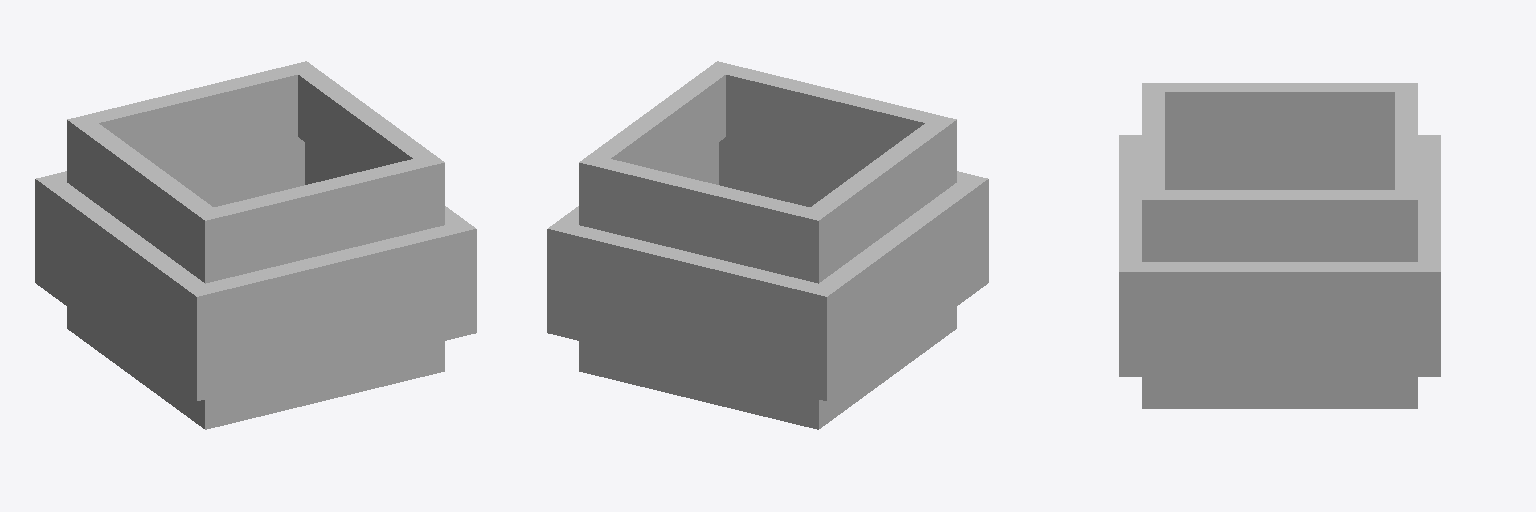
File: egg_hatched_4.obj
3 views of the same model, side by side, from view 1: azimuth 30°, elevation 25°; view 2: azimuth 150°, elevation 25°; view 3: azimuth 270°, elevation 25° (orthographic).
Visible parts, largest first — view 1: egg_hatched_inner1; view 2: egg_hatched_inner1; view 3: egg_hatched_inner1.
Boxes of the visible parts, x1=… form: egg_hatched_inner1: x1=35, y1=61, x2=476, y2=429; egg_hatched_inner1: x1=547, y1=61, x2=988, y2=429; egg_hatched_inner1: x1=1119, y1=83, x2=1440, y2=408.
Bounding box in the file's own units: 0.875 × 0.6875 × 0.875.